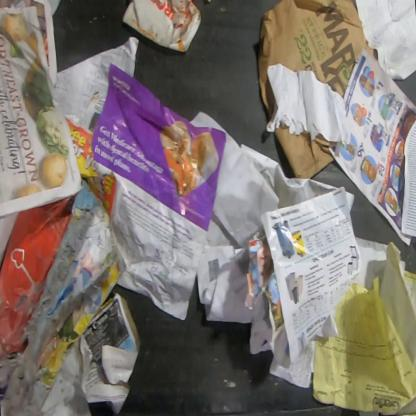cardboard: (258, 0, 377, 119), (122, 0, 201, 52), (275, 122, 338, 178)
